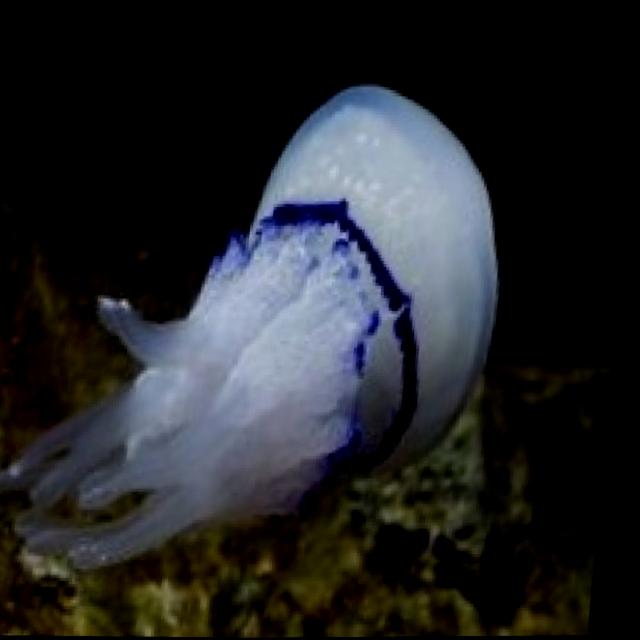Box-jellyfish: (0, 72, 522, 578)
